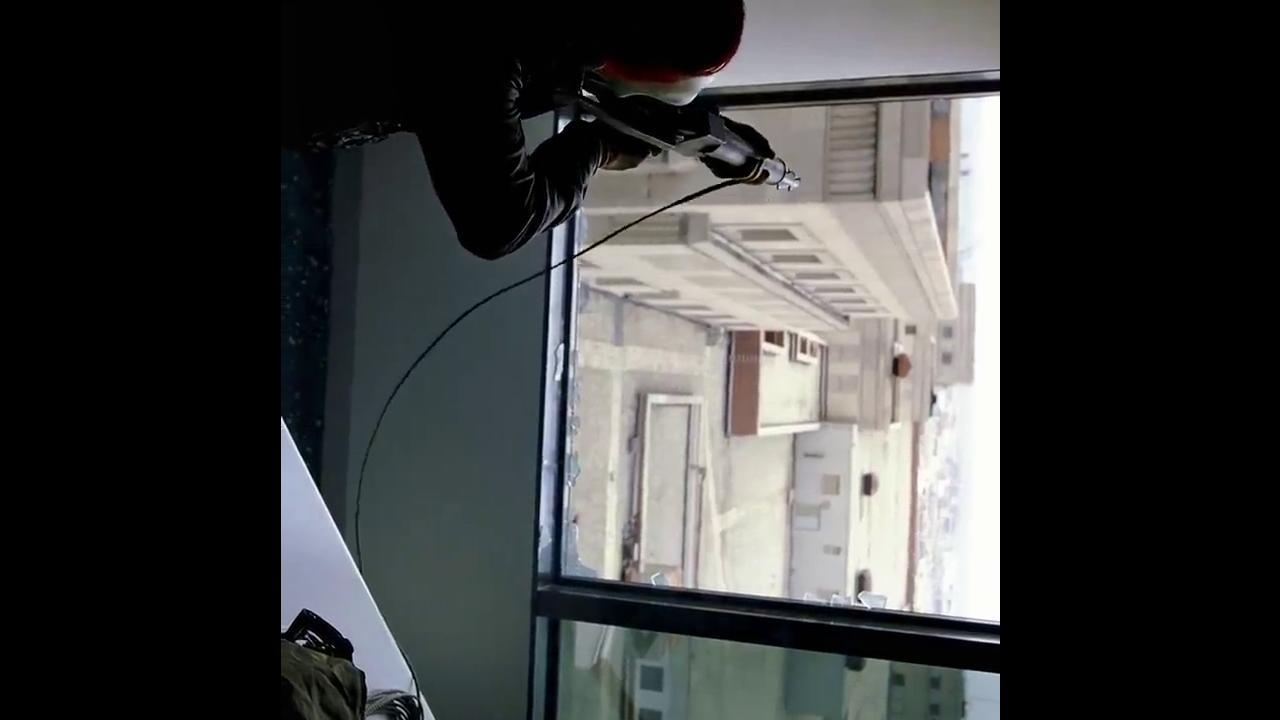gun: (516, 32, 802, 201)
